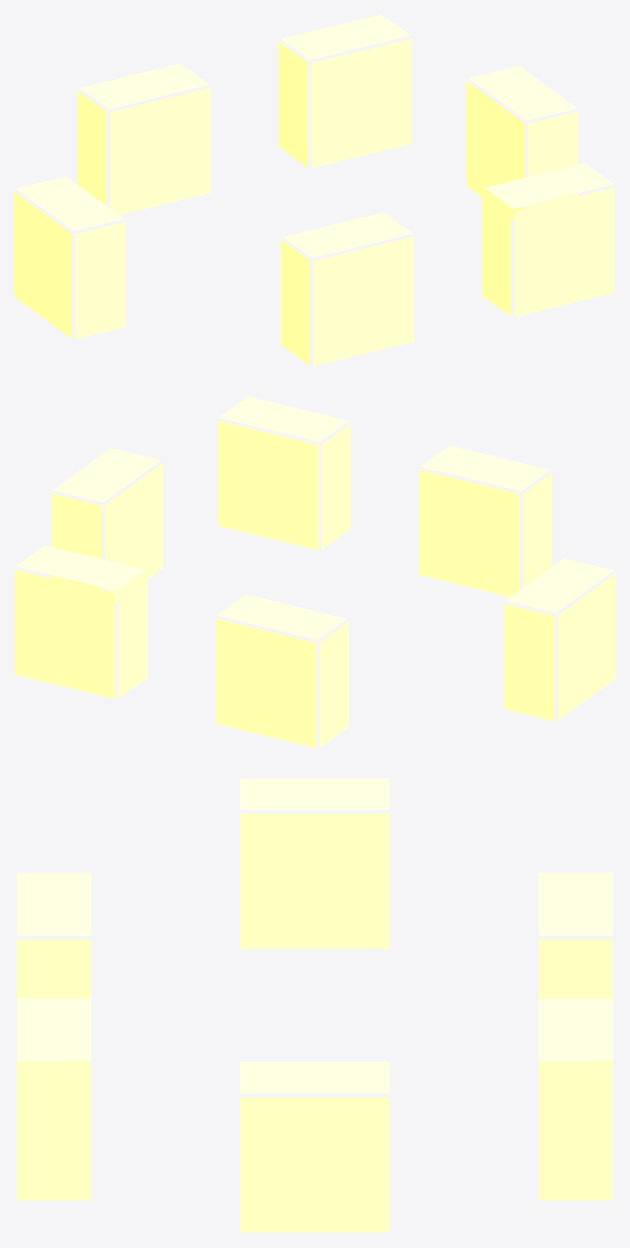
Rendered from lighthouse-windows.gltf.
3 views of the same model, one above another, from view 1: azimuth 30°, elevation 25°; view 2: azimuth 150°, elevation 25°; view 3: azimuth 270°, elevation 25° (orthographic). The views are drawn at different scales.
Parts seen in each view (by area): view 1: lighthouse-windows; view 2: lighthouse-windows; view 3: lighthouse-windows.
Boxes of the visible parts, x1=… form: lighthouse-windows: x1=14, y1=14, x2=614, y2=366; lighthouse-windows: x1=15, y1=396, x2=615, y2=748; lighthouse-windows: x1=17, y1=778, x2=612, y2=1232.
Bounding box in the file's own units: 5.04 × 1.04 × 4.04.
